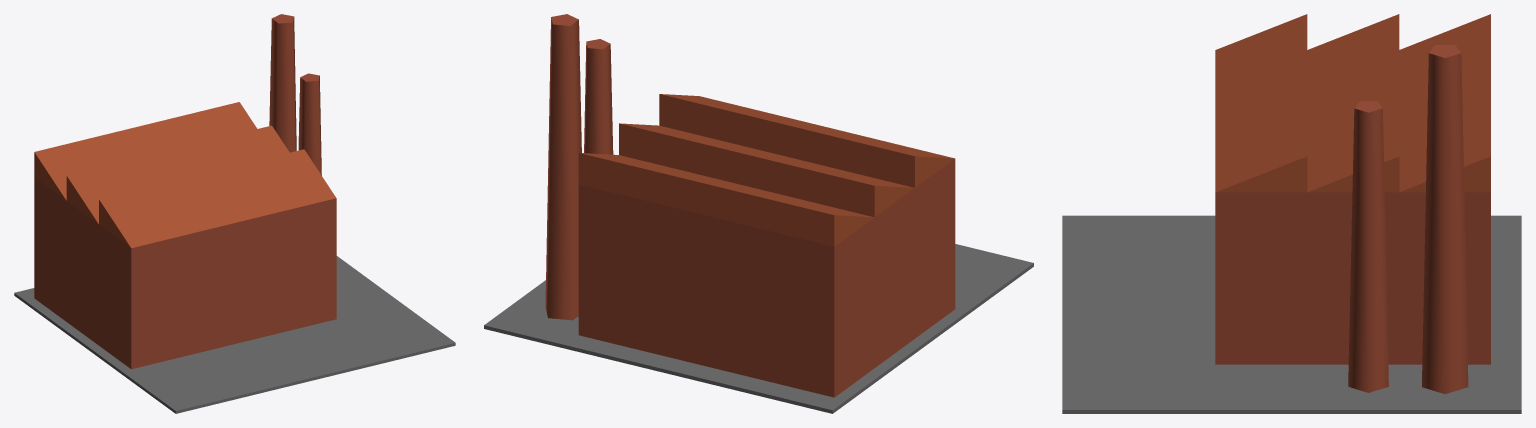
Rendered from bld_special_factory_a04_lod2.glb.
The picture shows the model from 3 angles, left to right: view 1: azimuth 30°, elevation 25°; view 2: azimuth 150°, elevation 25°; view 3: azimuth 270°, elevation 25°; orthographic projection. The views are drawn at different scales.
Parts seen in each view (by area): view 1: body; view 2: body; view 3: body.
Boxes of the visible parts, x1=… form: body: x1=14, y1=14, x2=455, y2=413; body: x1=484, y1=14, x2=1033, y2=413; body: x1=1062, y1=14, x2=1521, y2=413.
Bounding box in the file's own units: 15 × 12.15 × 15.
